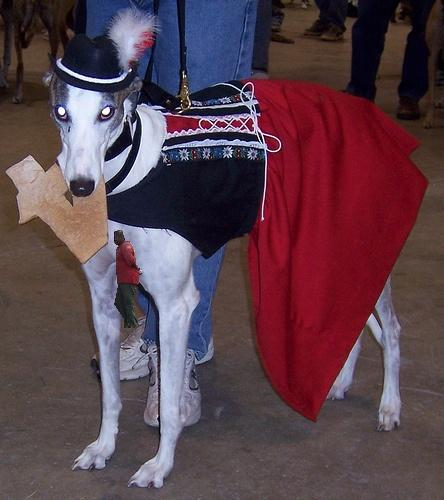tampered: (115, 231, 142, 328)
